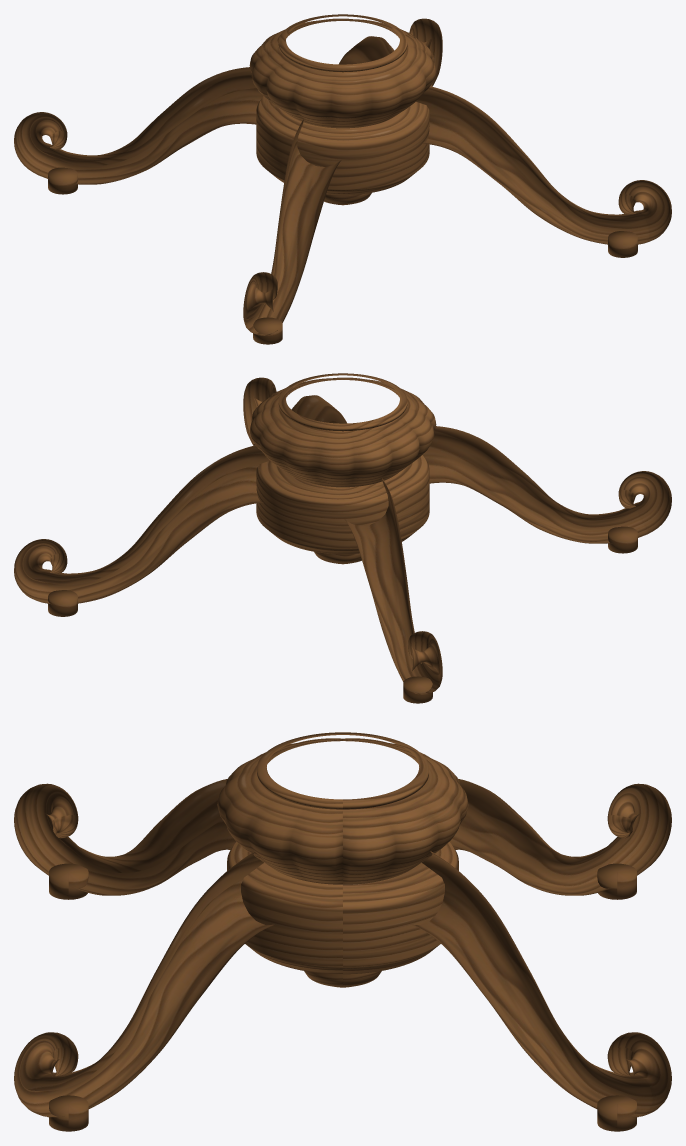
3 renders of one model, top to bottom at view 1: azimuth 30°, elevation 25°; view 2: azimuth 150°, elevation 25°; view 3: azimuth 270°, elevation 25°, orthographic. The views are drawn at different scales.
Parts seen in each view (by area): view 1: BaseMesh; view 2: BaseMesh; view 3: BaseMesh.
Boxes of the visible parts, x1,y1,x2,y2 form: BaseMesh: (14, 14, 671, 344); BaseMesh: (14, 373, 671, 703); BaseMesh: (14, 732, 671, 1131).
Bounding box in the file's own units: 0.7947 × 0.32 × 0.7947.
Materials: 1 (1 with a texture image).
